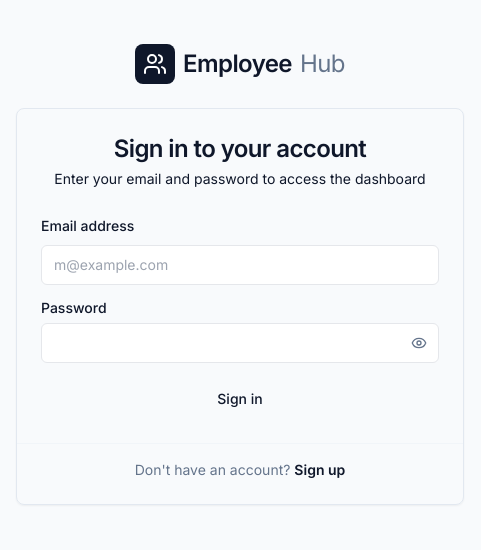
Test: Login Page › shows validation errors for empty submission
What coordinates should you click on to do the following:
click the button "Sign in"
I would click on:
 (240, 398)
Its box is x1=41 y1=378 x2=439 y2=418.
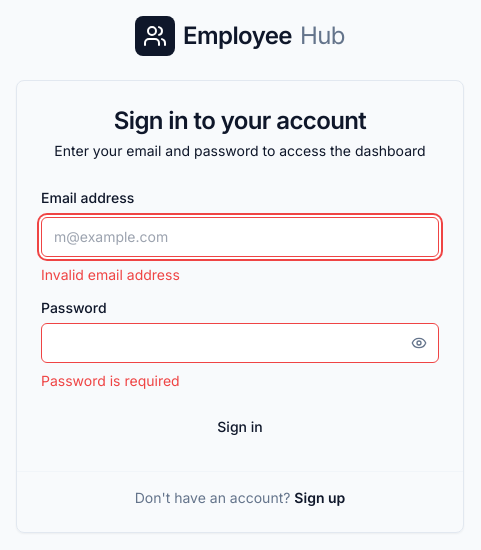
Now the text "Invalid email address" is shown, box x1=41 y1=266 x2=180 y2=282
Now the text "Password is required" is shown, box x1=41 y1=372 x2=180 y2=388
